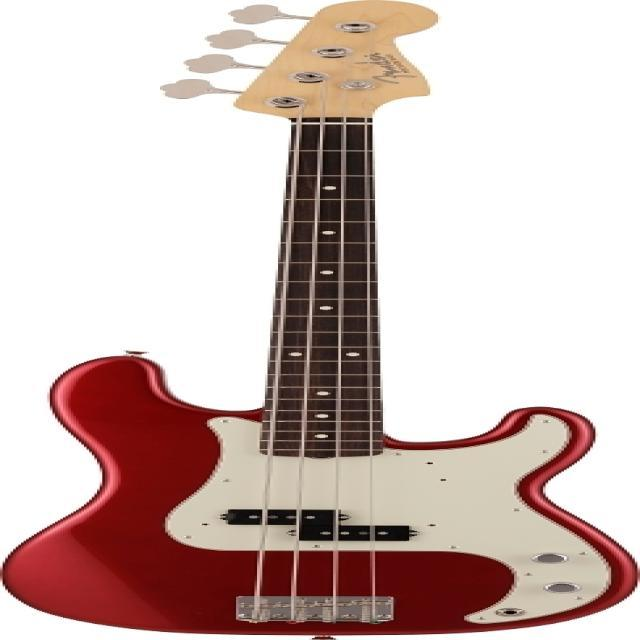bass: (3, 0, 636, 634)
